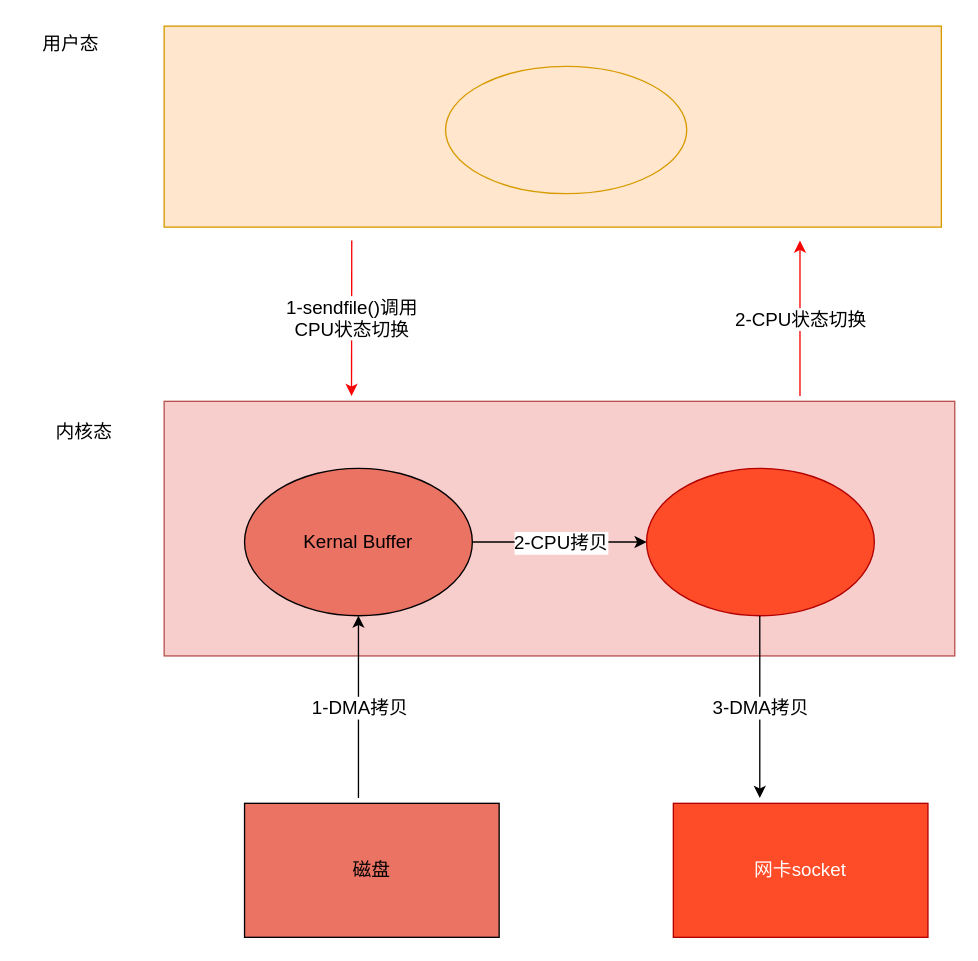
Some shapes in this 978 by 961 pixel diagram are drawn without their labels. Each missing label, with the centre of its shape:
"Socket Buffer" belongs at point (759, 541).
"应用程序 User Buffer" belongs at point (565, 129).
